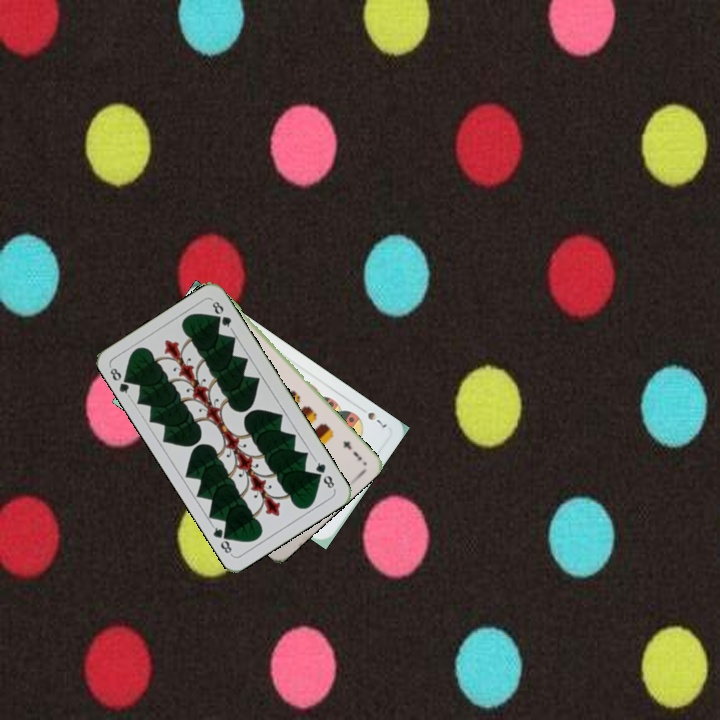E7: (339, 437, 364, 463)
G8: (106, 364, 135, 399), (311, 456, 337, 492)
S7: (355, 403, 390, 430)
